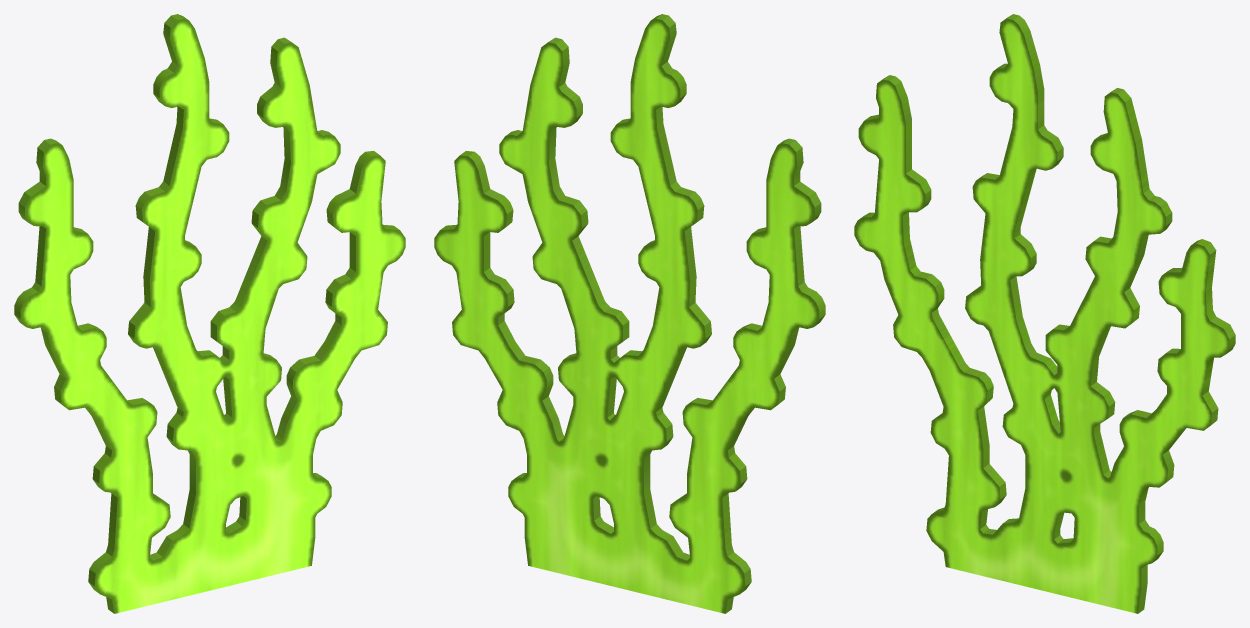
File: coral-3.glb
3 renders of one model, left to right at view 1: azimuth 30°, elevation 25°; view 2: azimuth 150°, elevation 25°; view 3: azimuth 330°, elevation 25°, orthographic. The views are drawn at different scales.
Visible parts, largest first — view 1: coral-3; view 2: coral-3; view 3: coral-3.
Boxes of the visible parts, x1,y1,x2,y2 form: coral-3: (14,14,405,613); coral-3: (434,14,825,613); coral-3: (854,14,1235,613).
Bounding box in the file's own units: 0.698 × 1 × 0.02.
Materials: 1 (1 with a texture image).
